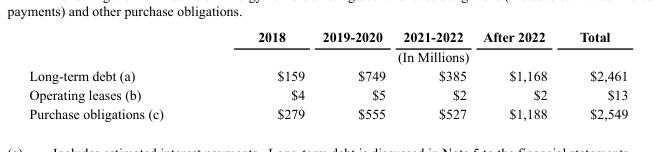table: (28, 28, 627, 121)
table column: (28, 28, 209, 121), (209, 28, 312, 121), (473, 28, 562, 121), (312, 28, 393, 121), (393, 28, 473, 121), (562, 28, 627, 121)
table column header: (28, 28, 627, 66)
table row: (28, 46, 627, 66), (28, 66, 627, 85), (28, 85, 627, 104), (28, 28, 627, 46), (28, 104, 627, 121)
table spanning cell: (209, 46, 627, 66)
